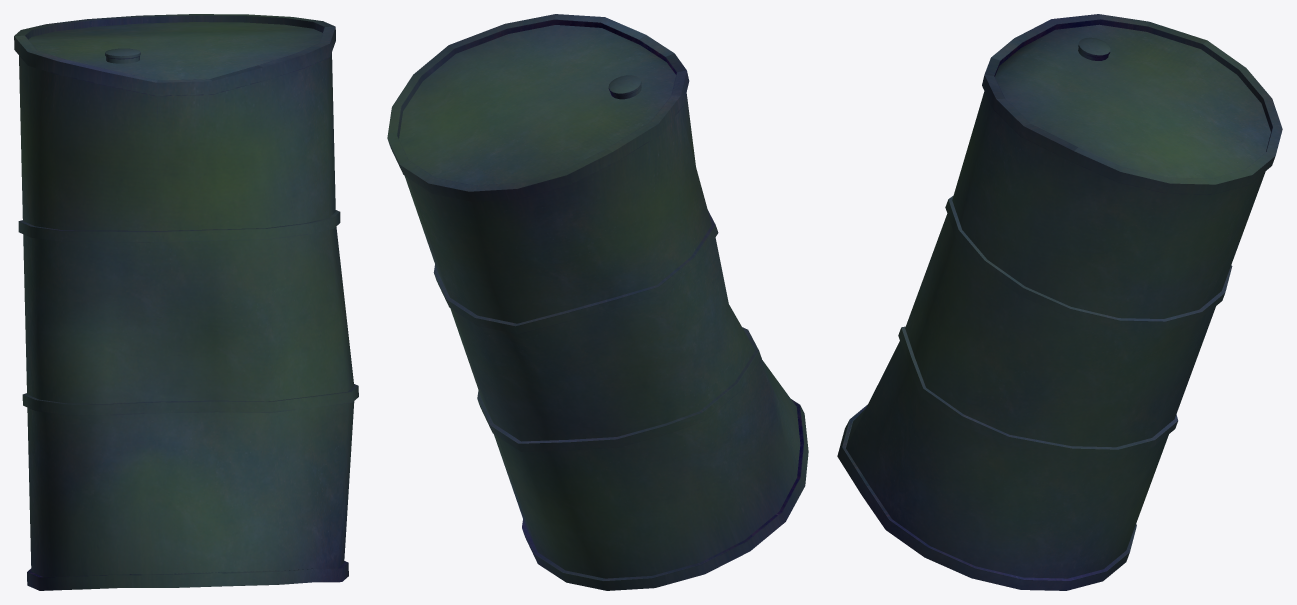
The model's file is barrel01_DONE.fbx.
3 views of the same model, side by side, from view 1: azimuth 30°, elevation 25°; view 2: azimuth 150°, elevation 25°; view 3: azimuth 270°, elevation 25° (orthographic). The views are drawn at different scales.
Parts seen in each view (by area): view 1: barrels_01:Barrel_002; view 2: barrels_01:Barrel_002; view 3: barrels_01:Barrel_002.
Part boxes in pixels (left/top/right/bottom): barrels_01:Barrel_002: left=14, top=14, right=358, bottom=590; barrels_01:Barrel_002: left=387, top=14, right=808, bottom=590; barrels_01:Barrel_002: left=837, top=14, right=1282, bottom=590.
Bounding box in the file's own units: 82.24 × 125 × 100.
